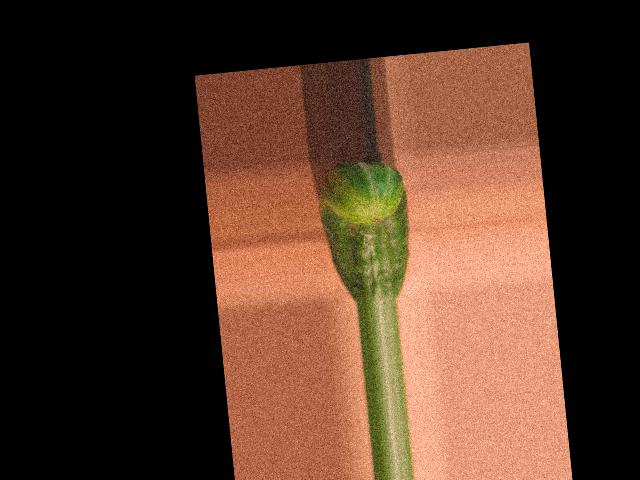cucumber: (315, 157, 417, 305)
